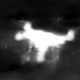plane: (13, 18, 77, 66)
